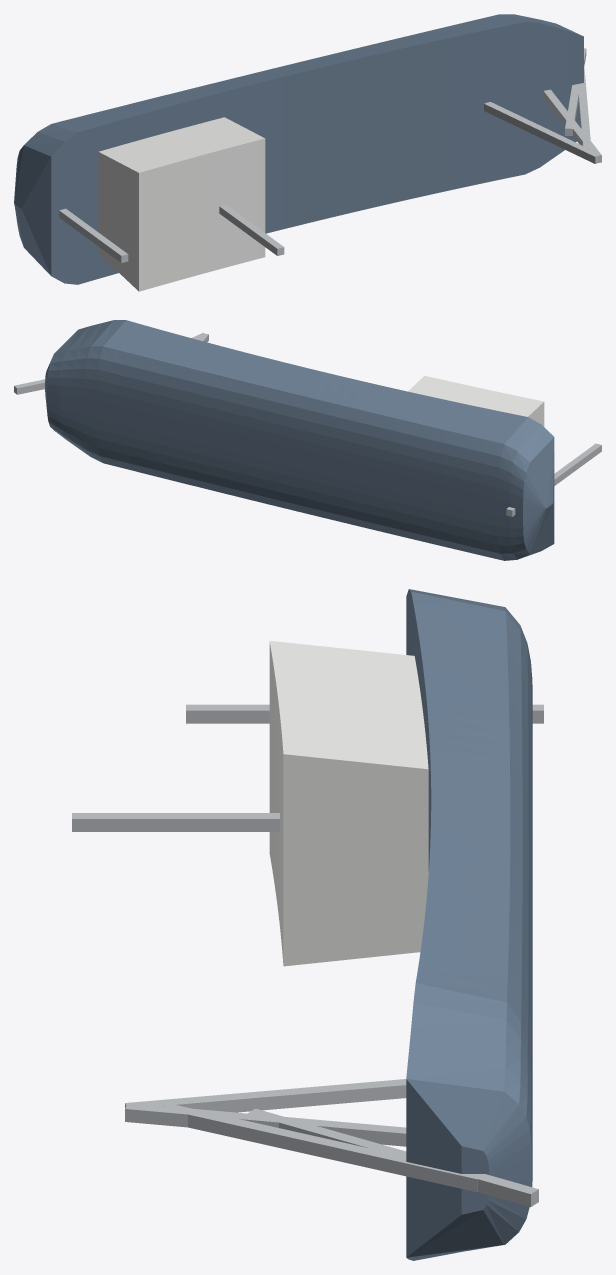
The model's file is loft-dredger-sheered.glb.
3 views of the same model, one above another, from view 1: azimuth 30°, elevation 25°; view 2: azimuth 150°, elevation 25°; view 3: azimuth 270°, elevation 25° (orthographic). The views are drawn at different scales.
Parts seen in each view (by area): view 1: loft-dredger-sheered; view 2: loft-dredger-sheered; view 3: loft-dredger-sheered.
Boxes of the visible parts, left/top/right/bottom form: loft-dredger-sheered: left=14, top=14, right=601, bottom=291; loft-dredger-sheered: left=14, top=320, right=601, bottom=560; loft-dredger-sheered: left=72, top=589, right=543, bottom=1260.
Size of the model in its own units: 2.02 by 0.504 by 0.7907.
